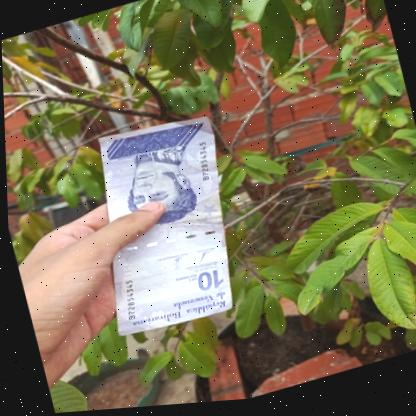ten-front-vef: (68, 107, 254, 345)
